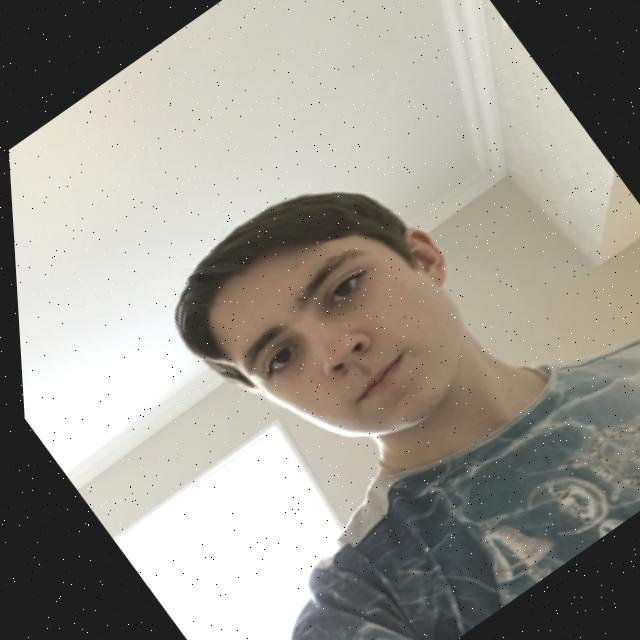Mask: (207, 213, 517, 492)
